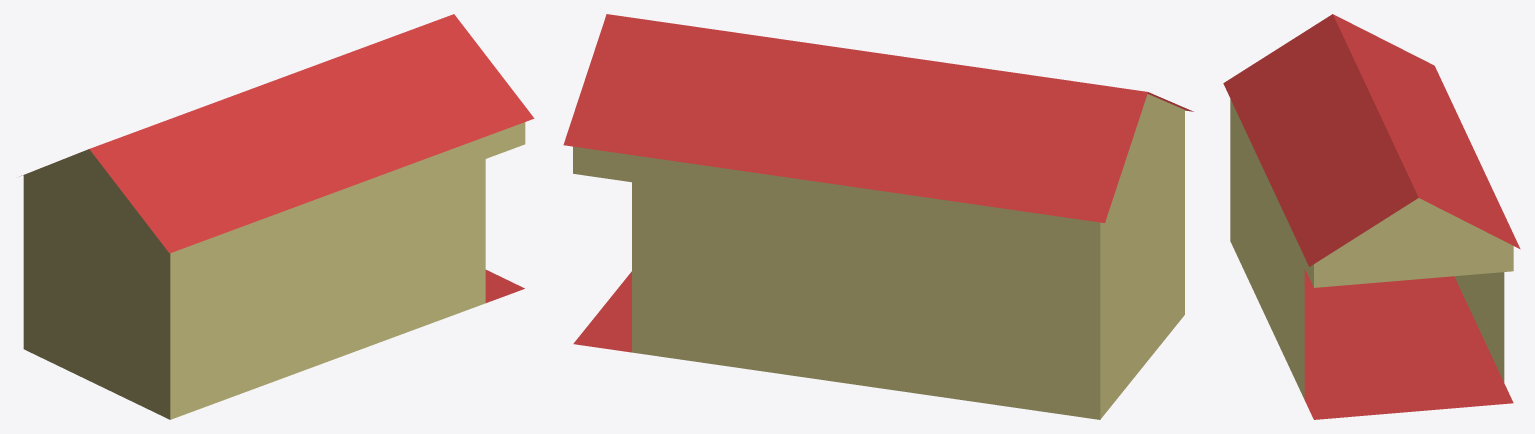
The picture shows the model from 3 angles, left to right: view 1: azimuth 30°, elevation 25°; view 2: azimuth 150°, elevation 25°; view 3: azimuth 270°, elevation 25°; orthographic projection. The views are drawn at different scales.
Size of the model in its own units: 20.14 by 12.56 by 10.06.
